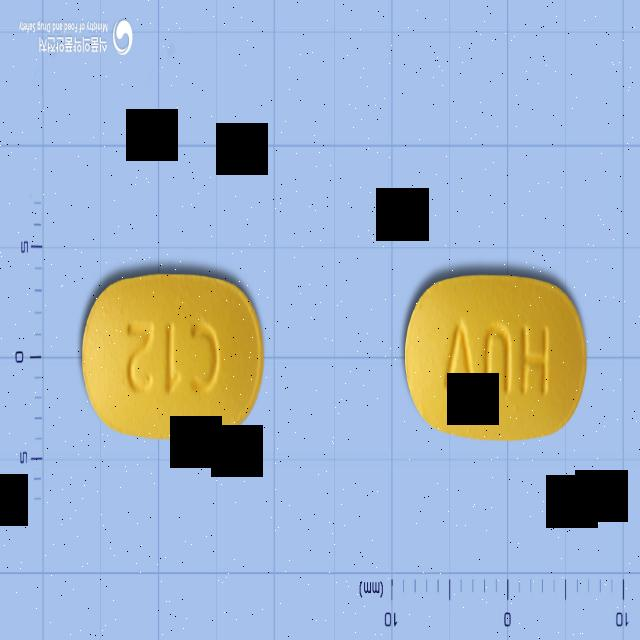Clavit: (400, 266, 586, 446), (78, 266, 266, 444)
